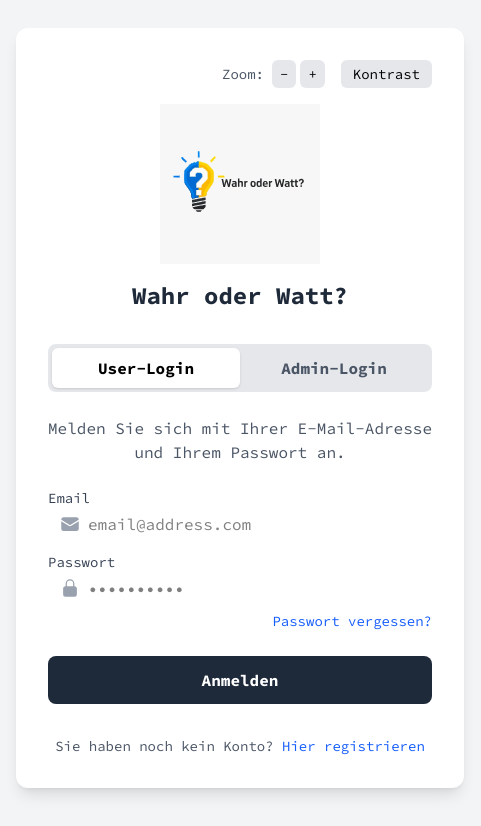
Test: LoginView.vue › Mode Switching › switches to registration form
This screenshot has width=481, height=826.
Click the button "Hier registrieren".
click(353, 746)  # box [282,736,425,756]
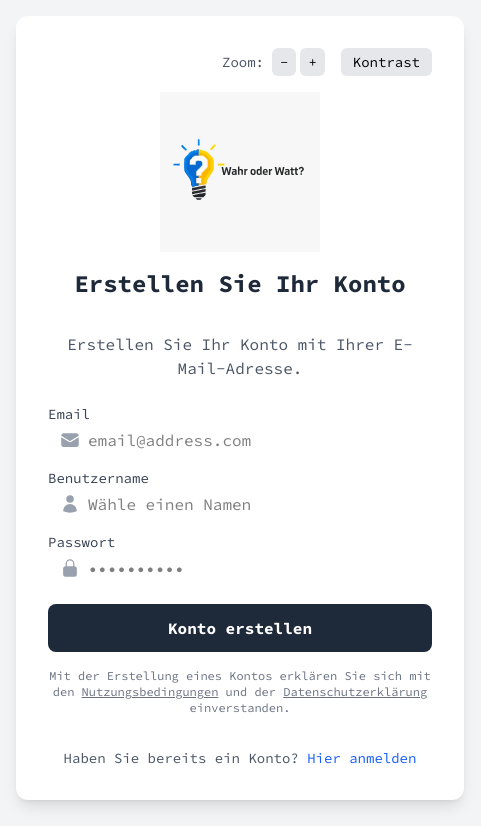
Now the heading "Erstellen Sie Ihr Konto" is shown, box [48,268,432,300]
Now the field with id "reg-email" is shown, box [48,428,432,452]
Now the field with id "reg-username" is shown, box [48,492,432,516]
